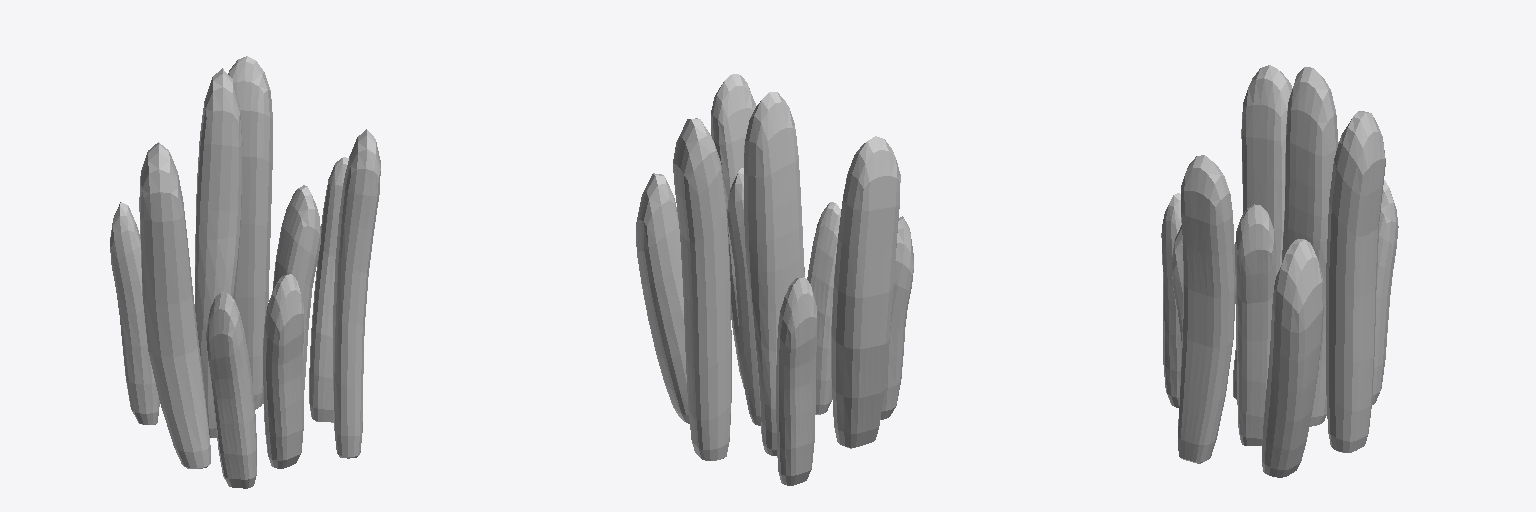
The model's file is Seaweed_A_02_LOD0.obj.
3 views of the same model, side by side, from view 1: azimuth 30°, elevation 25°; view 2: azimuth 150°, elevation 25°; view 3: azimuth 270°, elevation 25° (orthographic).
Parts seen in each view (by area): view 1: Seaweed_A_02_LOD0_Cylinder.320; view 2: Seaweed_A_02_LOD0_Cylinder.320; view 3: Seaweed_A_02_LOD0_Cylinder.320.
Boxes of the visible parts, x1,y1,x2,y2 form: Seaweed_A_02_LOD0_Cylinder.320: [110, 56, 380, 488]; Seaweed_A_02_LOD0_Cylinder.320: [636, 74, 913, 485]; Seaweed_A_02_LOD0_Cylinder.320: [1161, 65, 1398, 477].
Size of the model in its own units: 4.36 by 6.13 by 3.66.